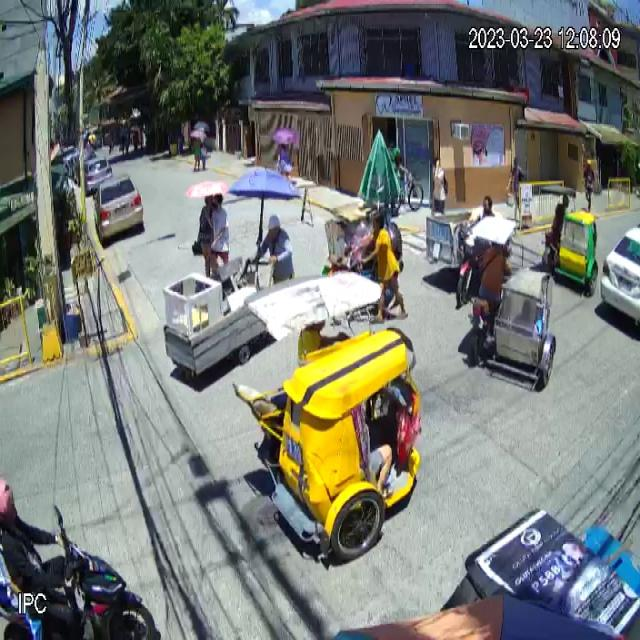Car: (93, 173, 144, 246)
Tricycle: (241, 273, 420, 553), (464, 218, 556, 390), (540, 186, 598, 299)
